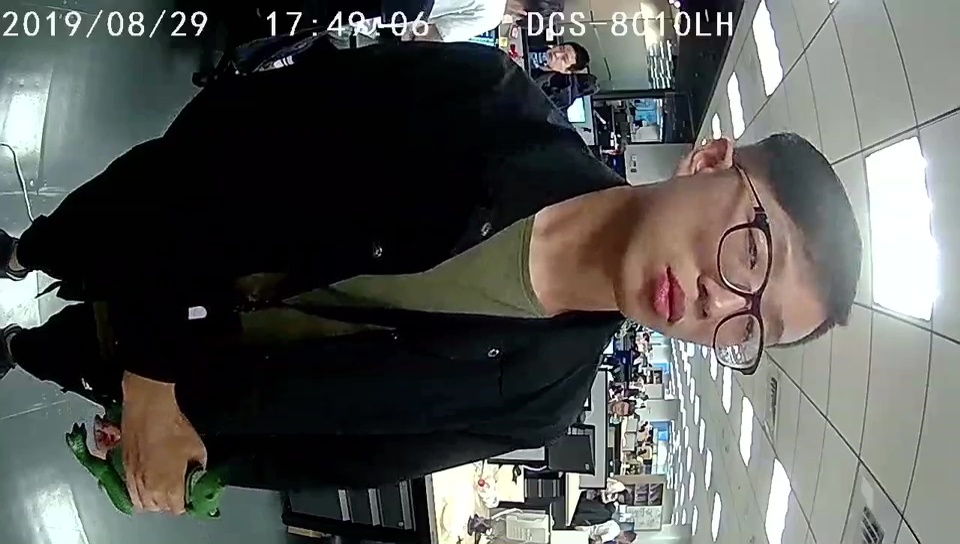rex: (67, 420, 225, 522)
